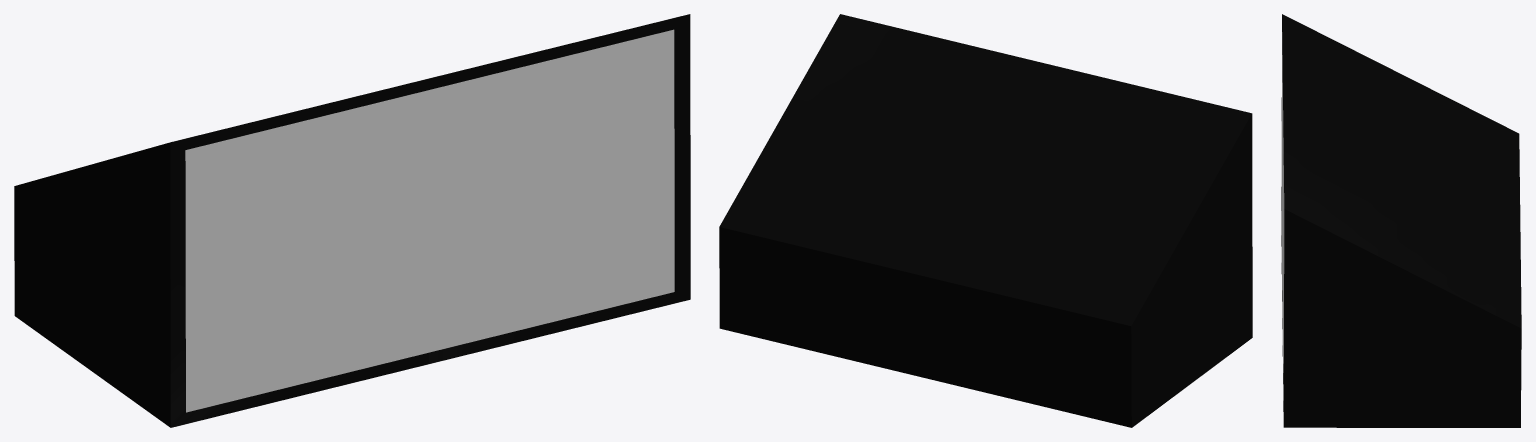
File: Speakers03.fbx
3 views of the same model, side by side, from view 1: azimuth 30°, elevation 25°; view 2: azimuth 150°, elevation 25°; view 3: azimuth 270°, elevation 25° (orthographic). The views are drawn at different scales.
Parts seen in each view (by area): view 1: Empty_Mesh; view 2: Empty_Mesh; view 3: Empty_Mesh.
Part boxes in pixels (x1,y1,x2,y2): Empty_Mesh: (14,14,690,427); Empty_Mesh: (719,14,1252,427); Empty_Mesh: (1281,14,1521,427).
Bounding box in the file's own units: 98.59 × 51.55 × 51.18.
